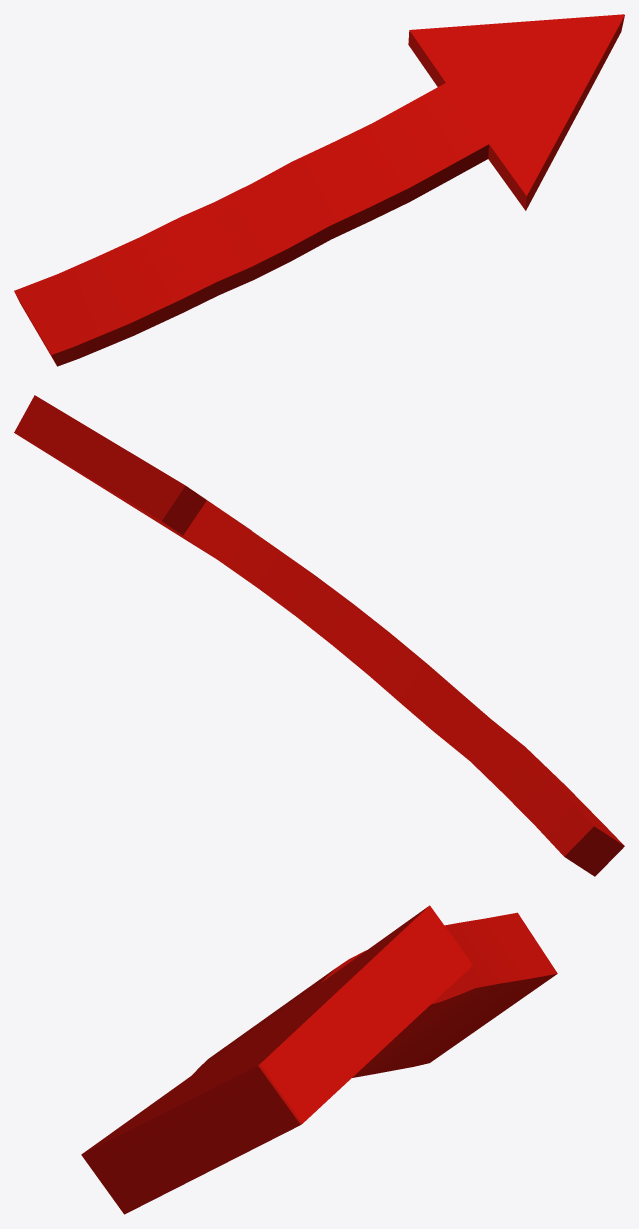
The model's file is Arrow04.fbx.
3 views of the same model, one above another, from view 1: azimuth 30°, elevation 25°; view 2: azimuth 150°, elevation 25°; view 3: azimuth 270°, elevation 25° (orthographic). The views are drawn at different scales.
Visible parts, largest first — view 1: Cube.103; view 2: Cube.103; view 3: Cube.103.
Boxes of the visible parts, x1,y1,x2,y2 form: Cube.103: (14, 14, 624, 366); Cube.103: (14, 395, 624, 876); Cube.103: (81, 905, 557, 1214).
Bounding box in the file's own units: 2.1 × 0.9264 × 0.7834.
